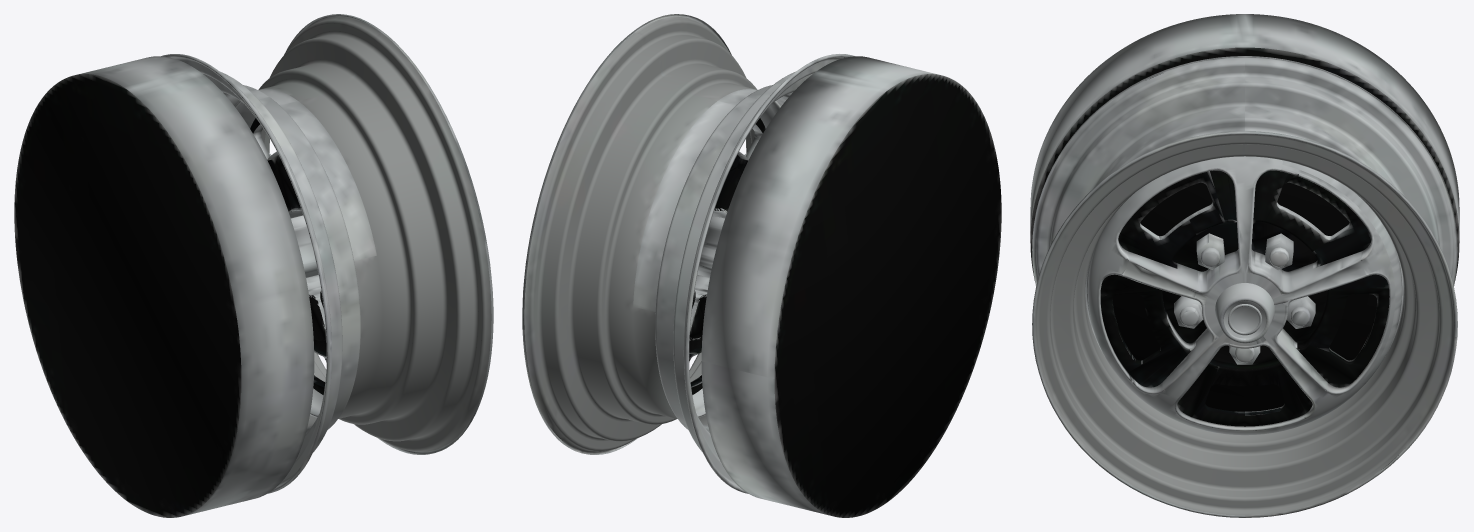
3 views of the same model, side by side, from view 1: azimuth 30°, elevation 25°; view 2: azimuth 150°, elevation 25°; view 3: azimuth 270°, elevation 25° (orthographic). The views are drawn at different scales.
Parts seen in each view (by area): view 1: Turbo; view 2: Turbo; view 3: Turbo.
Boxes of the visible parts, left/top/right/bottom form: Turbo: left=14, top=14, right=493, bottom=517; Turbo: left=522, top=14, right=1001, bottom=517; Turbo: left=1030, top=14, right=1459, bottom=517.
Bounding box in the file's own units: 0.7749 × 1.2 × 1.2.
Materials: 1 (1 with a texture image).
